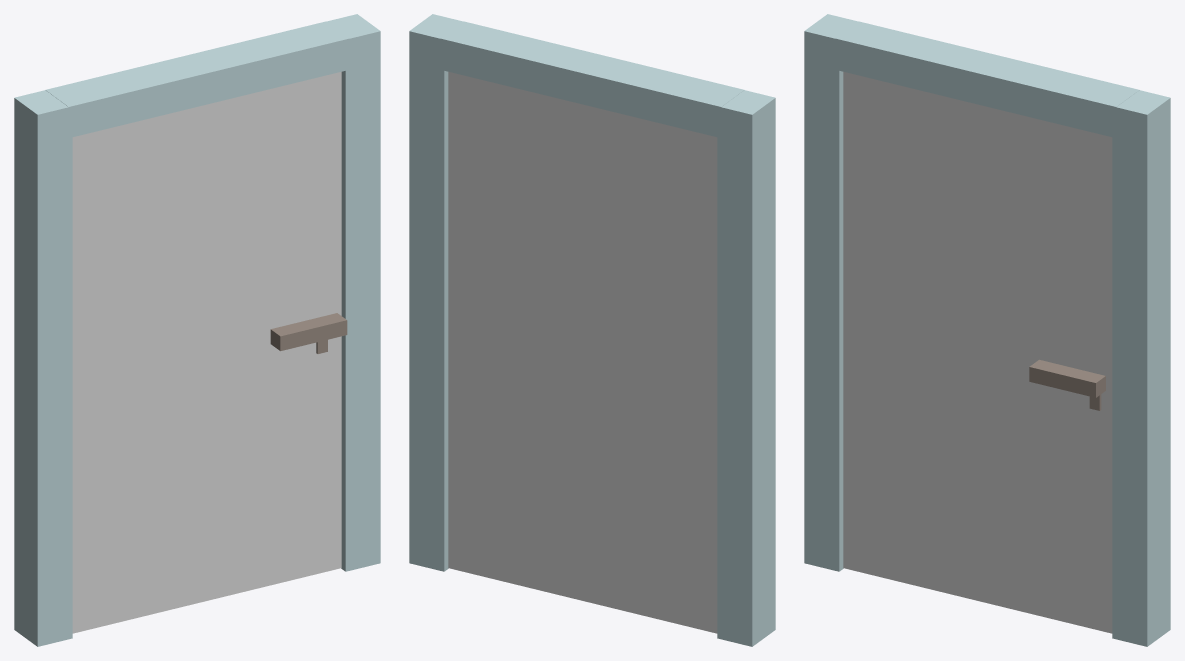
File: kapı 1.1.2.fbx
3 renders of one model, left to right at view 1: azimuth 30°, elevation 25°; view 2: azimuth 150°, elevation 25°; view 3: azimuth 330°, elevation 25°, orthographic.
Parts seen in each view (by area): view 1: pCube19; view 2: pCube19; view 3: pCube19.
Boxes of the visible parts, <box> form: pCube19: <box>14,14,380,646</box>; pCube19: <box>409,14,775,646</box>; pCube19: <box>804,14,1170,646</box>.
Bounding box in the file's own units: 909 × 1348 × 148.
